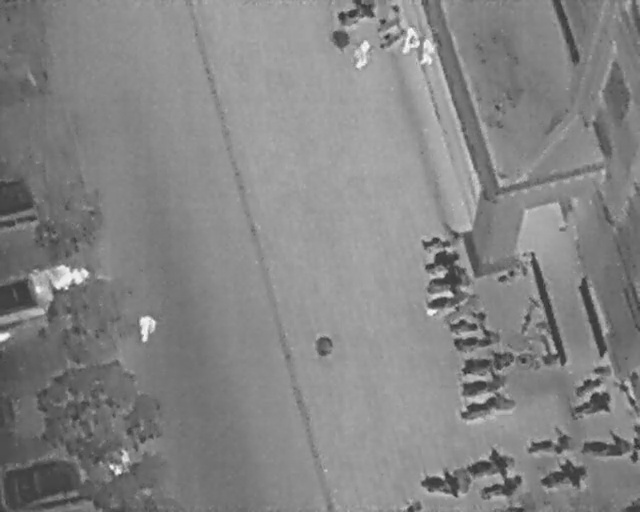Bicycle: (457, 387, 518, 425), (535, 456, 591, 494), (463, 444, 516, 480), (421, 282, 475, 317), (420, 262, 471, 297), (475, 470, 527, 504), (456, 368, 509, 401), (525, 423, 575, 457), (451, 323, 502, 356), (418, 240, 463, 276), (580, 427, 634, 457), (446, 306, 492, 338), (370, 1, 408, 39), (570, 388, 615, 420), (513, 293, 544, 339), (373, 19, 412, 54), (419, 466, 463, 497), (458, 349, 506, 377), (570, 369, 608, 401), (337, 0, 376, 27), (420, 232, 454, 255)
Car: (0, 455, 115, 510), (0, 268, 53, 327), (0, 172, 45, 234)
Person: (398, 25, 423, 57), (419, 35, 438, 68), (137, 313, 157, 342), (354, 39, 371, 69)
